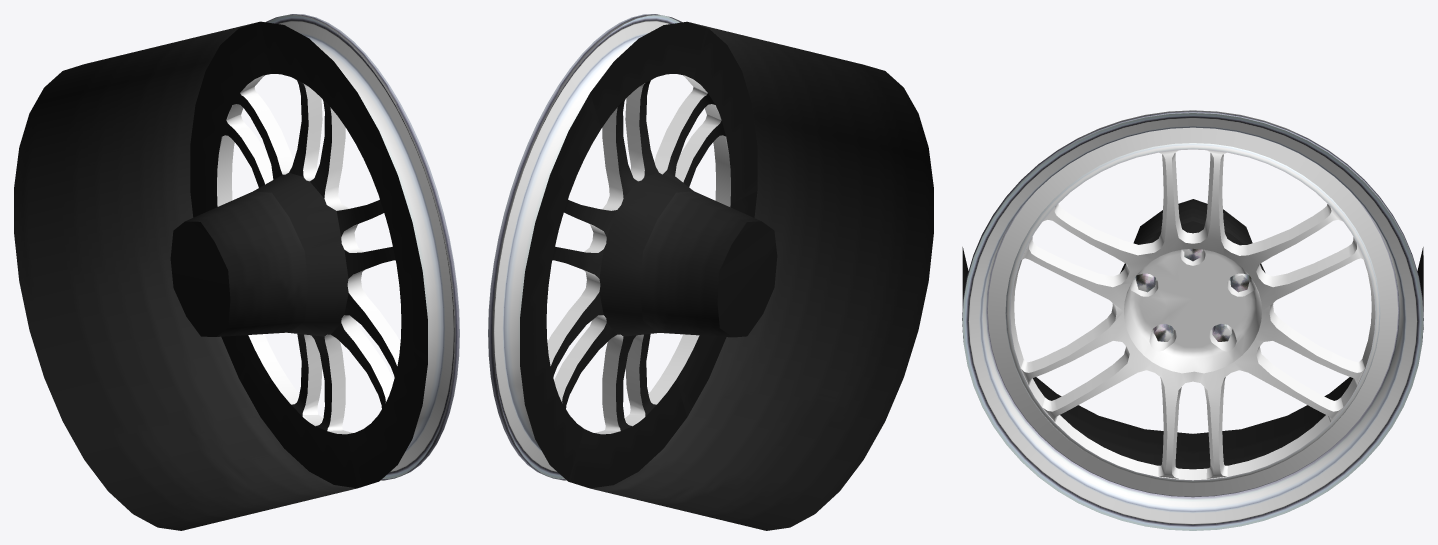
File: wheel40.fbx
3 renders of one model, left to right at view 1: azimuth 30°, elevation 25°; view 2: azimuth 150°, elevation 25°; view 3: azimuth 270°, elevation 25°, orthographic. The views are drawn at different scales.
Parts seen in each view (by area): view 1: enk_rpf1_wheel_wheel_inner_rim_, enk_rpf1_wheel_wheel_rim_, wheel_rim; view 2: enk_rpf1_wheel_wheel_inner_rim_, enk_rpf1_wheel_wheel_rim_, wheel_rim; view 3: wheel_rim, enk_rpf1_wheel_wheel_rim_, enk_rpf1_wheel_wheel_inner_rim_.
Boxes of the visible parts, box(x1,y1,x2,y2) form: enk_rpf1_wheel_wheel_inner_rim_: box(14, 21, 427, 530); enk_rpf1_wheel_wheel_rim_: box(217, 14, 458, 480); wheel_rim: box(217, 14, 459, 479); enk_rpf1_wheel_wheel_inner_rim_: box(520, 21, 933, 530); enk_rpf1_wheel_wheel_rim_: box(489, 14, 730, 480); wheel_rim: box(488, 14, 730, 479); wheel_rim: box(962, 110, 1423, 530); enk_rpf1_wheel_wheel_rim_: box(962, 110, 1423, 478); enk_rpf1_wheel_wheel_inner_rim_: box(962, 199, 1423, 469).
Size of the model in its own units: 0.2296 by 0.457 by 0.4551.
Materials: 1 (1 with a texture image).
